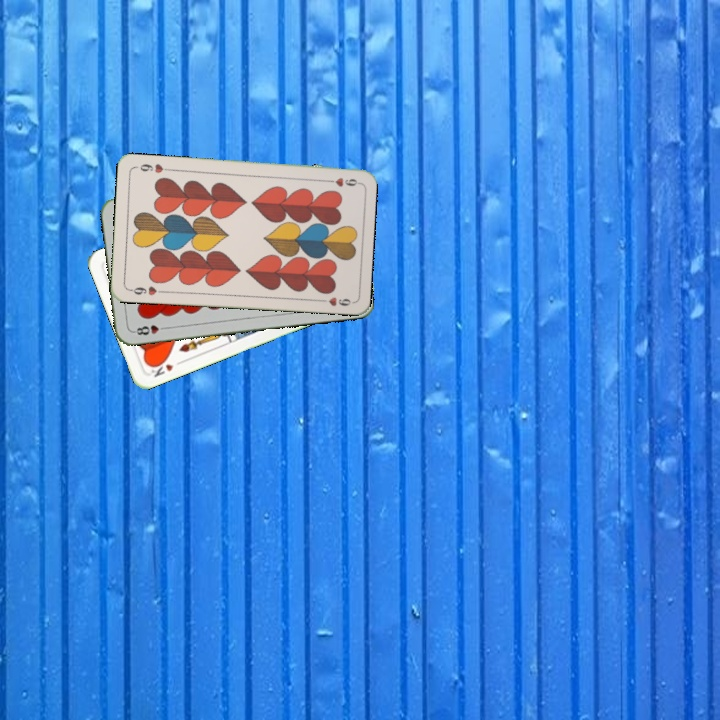H8: (129, 321, 170, 338)
H9: (320, 173, 361, 189), (125, 282, 159, 298)
HK: (144, 356, 185, 380)
